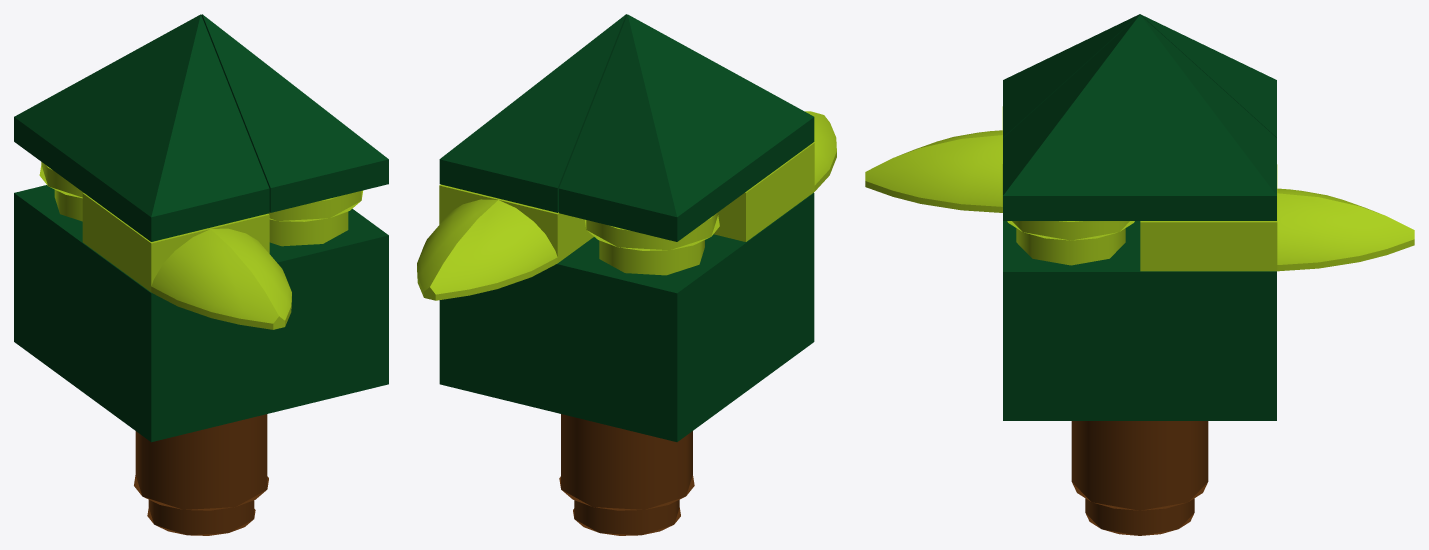
File: test-simple.glb
3 views of the same model, side by side, from view 1: azimuth 30°, elevation 25°; view 2: azimuth 150°, elevation 25°; view 3: azimuth 270°, elevation 25° (orthographic).
Visible parts, largest first — view 1: 3003.dat, 3048b.dat, 49668.dat, 3048b.dat.001, 3062b.dat, 6141.dat.001, 6141.dat; view 2: 3003.dat, 3048b.dat, 3048b.dat.001, 49668.dat.001, 3062b.dat, 49668.dat, 6141.dat; view 3: 3003.dat, 3048b.dat.001, 49668.dat.001, 3062b.dat, 3048b.dat, 49668.dat, 6141.dat.001.
Part boxes in pixels (x1,y1,x2,y2): 3003.dat: (14,185,388,442); 3048b.dat: (14,14,269,241); 49668.dat: (82,193,291,329); 3048b.dat.001: (201,14,388,212); 3062b.dat: (134,414,268,535); 6141.dat.001: (268,190,363,246); 6141.dat: (39,162,83,221); 3003.dat: (439,192,814,441); 3048b.dat: (559,14,814,241); 3048b.dat.001: (439,14,626,212); 49668.dat.001: (417,184,593,300); 3062b.dat: (559,414,694,535); 49668.dat: (714,111,836,241); 6141.dat: (585,212,719,275); 3003.dat: (1003,221,1276,420); 3048b.dat.001: (1003,15,1276,220); 49668.dat.001: (1140,164,1414,271); 3062b.dat: (1071,421,1208,535); 3048b.dat: (1003,14,1276,137); 49668.dat: (865,106,1002,212); 6141.dat.001: (1007,221,1134,265).
Bounding box in the file's own units: 0.398 × 0.7983 × 0.797.
